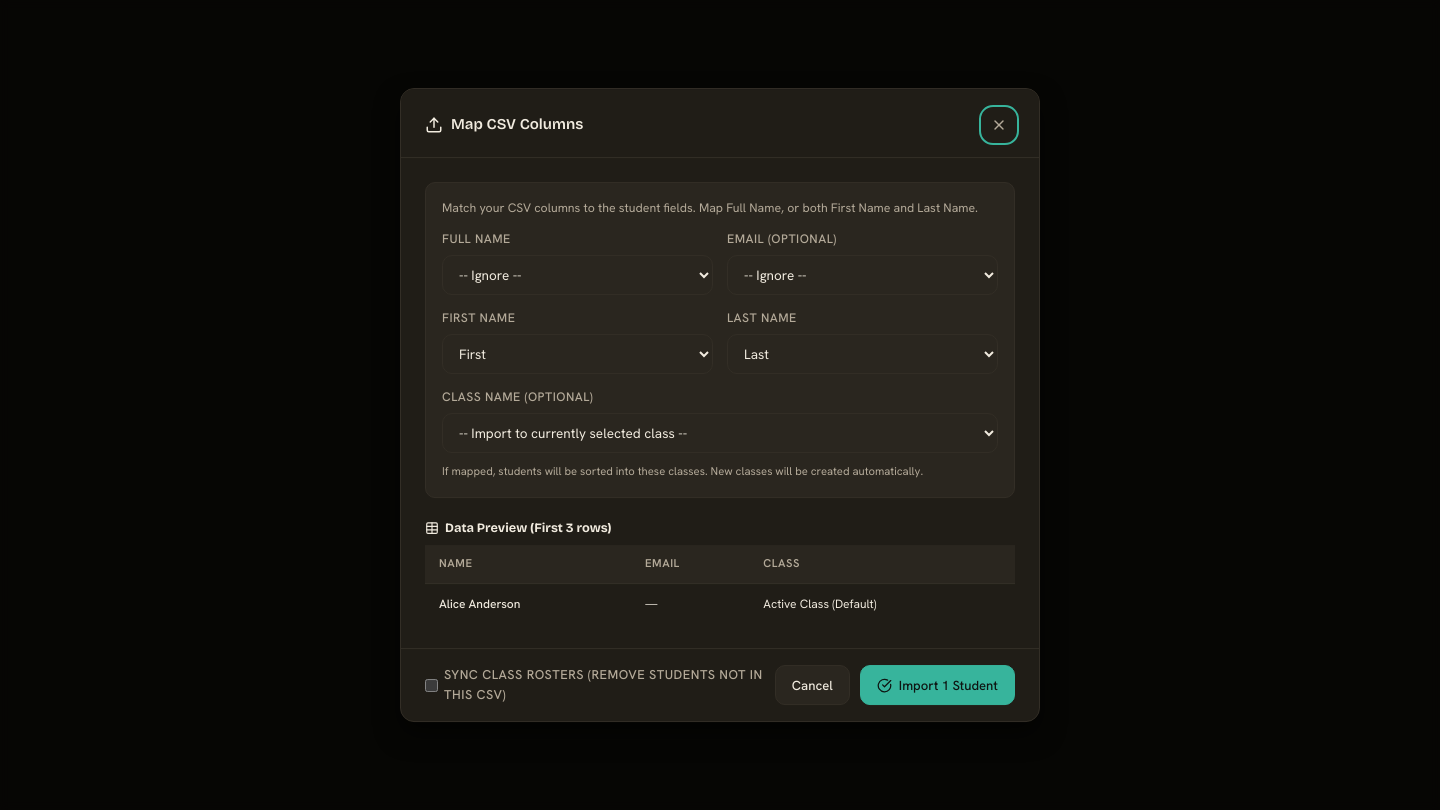
Test: CsvImportModal › maps first/last name columns and disables full-name when used together
The width and height of the screenshot is (1440, 810).
Select "First" in the 3rd dropdown at {"x": 578, "y": 354}, box [442,334,713,374]
Select "Last" in the 4th dropdown at {"x": 862, "y": 354}, box [727,334,998,374]
Expected: the heading "Data Preview (First 3 rows)" is shown, [425,520,612,535]
Expected: the text "Alice Anderson" is shown, [425,583,631,624]
Select "Other" in the 1st dropdown at {"x": 578, "y": 275}, box [442,255,713,295]
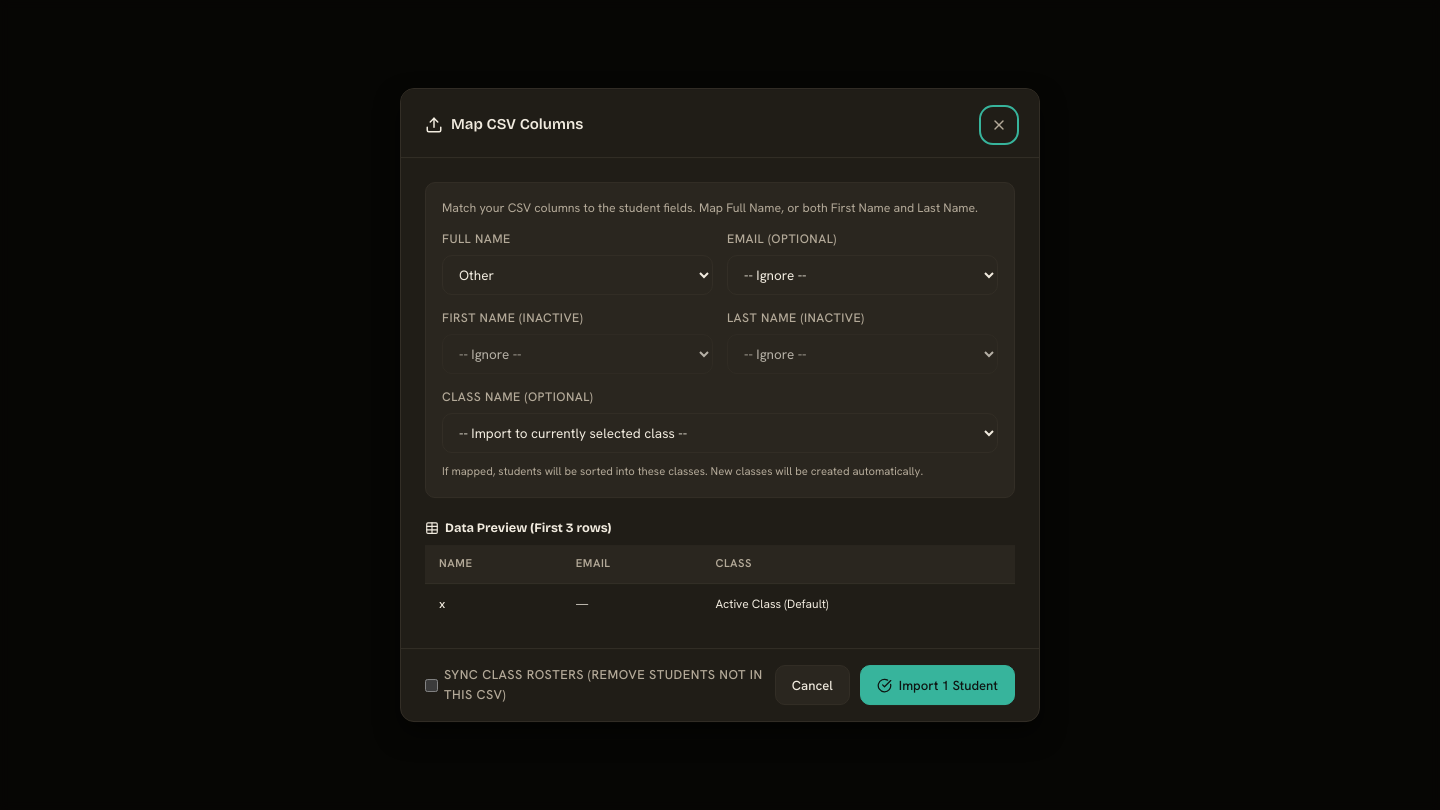
Result: the 3rd dropdown is disabled at [442,334,713,374]
Result: the 4th dropdown is disabled at [727,334,998,374]
Result: the text "First Name (inactive)" is shown at [442,310,583,326]
